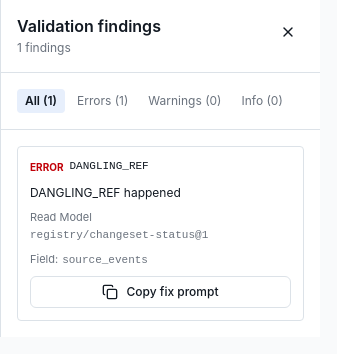
Test: ValidationInspector › shows an empty filter without hiding the remaining findings total
Step 1. Click the button "Warnings (0)" → [185, 101], box [140, 89, 230, 113]
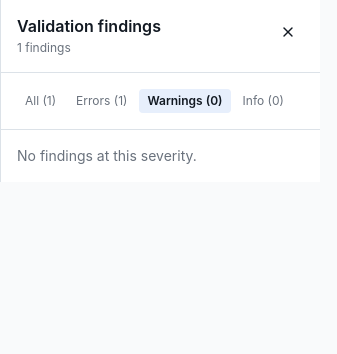
Expected: the button "All (1)" is shown, [17, 89, 64, 113]
Now the text "No findings at this severity." is shown, box [17, 147, 197, 164]
